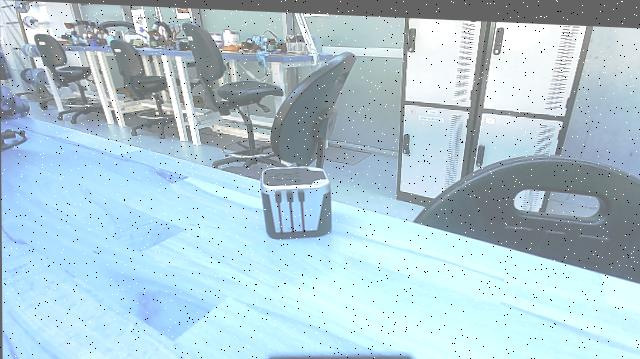adapter: (253, 163, 337, 243)
